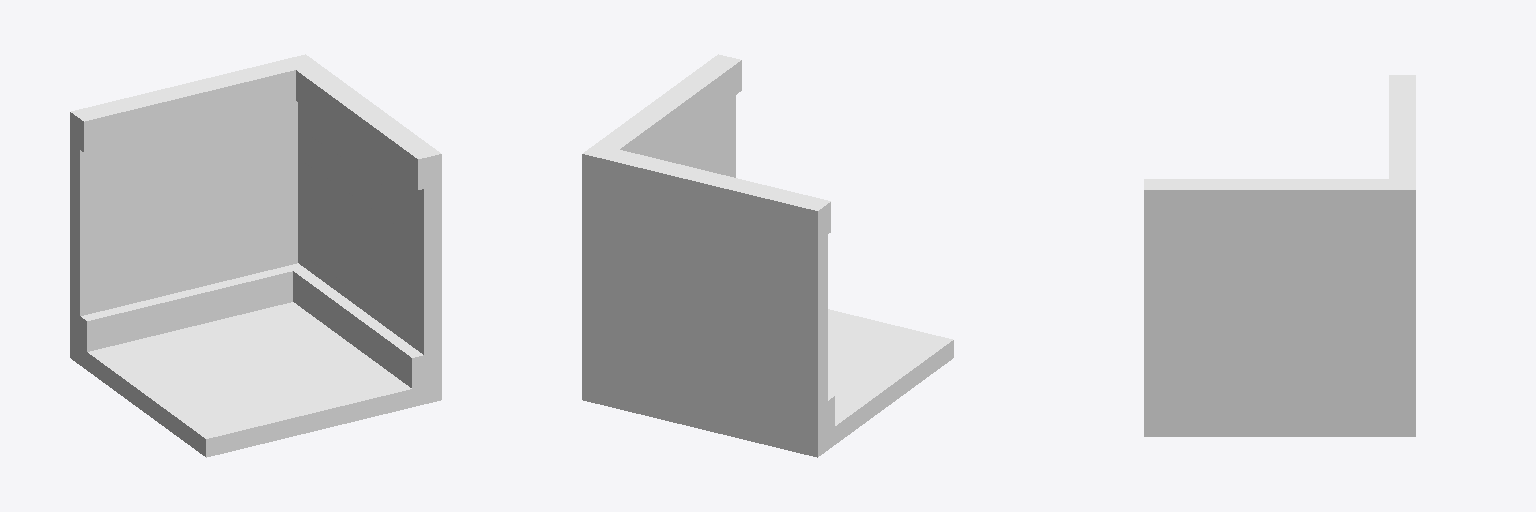
File: WallCornerVoxel.obj
The picture shows the model from 3 angles: view 1: azimuth 30°, elevation 25°; view 2: azimuth 150°, elevation 25°; view 3: azimuth 270°, elevation 25°; orthographic projection.
Visible parts, largest first — view 1: object 1; view 2: object 1; view 3: object 1.
Part boxes in pixels (x1,y1,x2,y2): object 1: (70, 54, 441, 457); object 1: (582, 54, 953, 457); object 1: (1144, 75, 1415, 436).
Size of the model in its own units: 4 by 4 by 4.